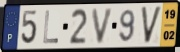2: (69, 7, 89, 46)
5: (20, 9, 40, 46)
9: (118, 8, 138, 43)
L: (42, 10, 59, 45)
V: (140, 5, 164, 46), (91, 7, 115, 46)
